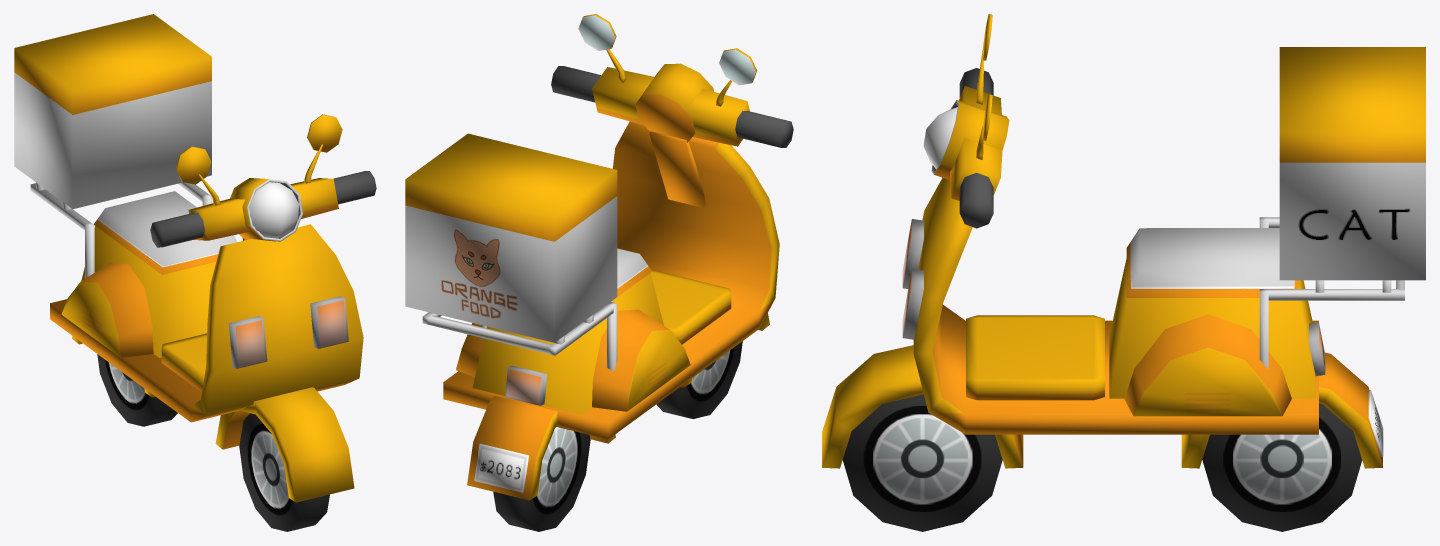
File: Motorcycle_01.fbx
3 renders of one model, left to right at view 1: azimuth 30°, elevation 25°; view 2: azimuth 150°, elevation 25°; view 3: azimuth 270°, elevation 25°, orthographic. The views are drawn at different scales.
Visible parts, largest first — view 1: JP_Motorcycle_01.001; view 2: JP_Motorcycle_01.001; view 3: JP_Motorcycle_01.001.
Part boxes in pixels (x1,y1,x2,y2): JP_Motorcycle_01.001: (14, 14, 376, 531); JP_Motorcycle_01.001: (405, 14, 793, 531); JP_Motorcycle_01.001: (822, 14, 1425, 531).
Size of the model in its own units: 30.6 by 51.45 by 60.14.
1 material, 1 textured.
